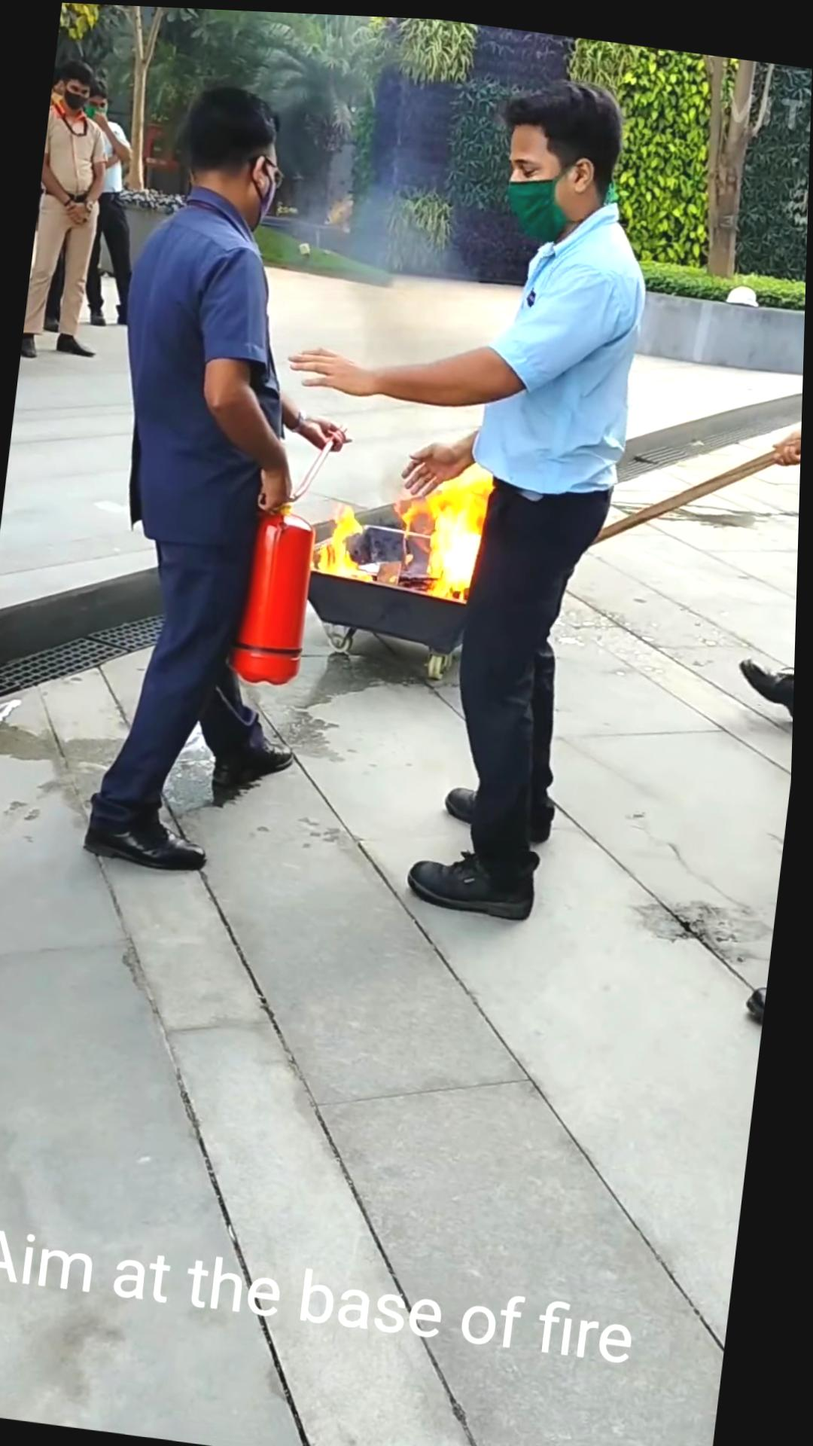FireExtinguisher: (218, 499, 344, 706)
